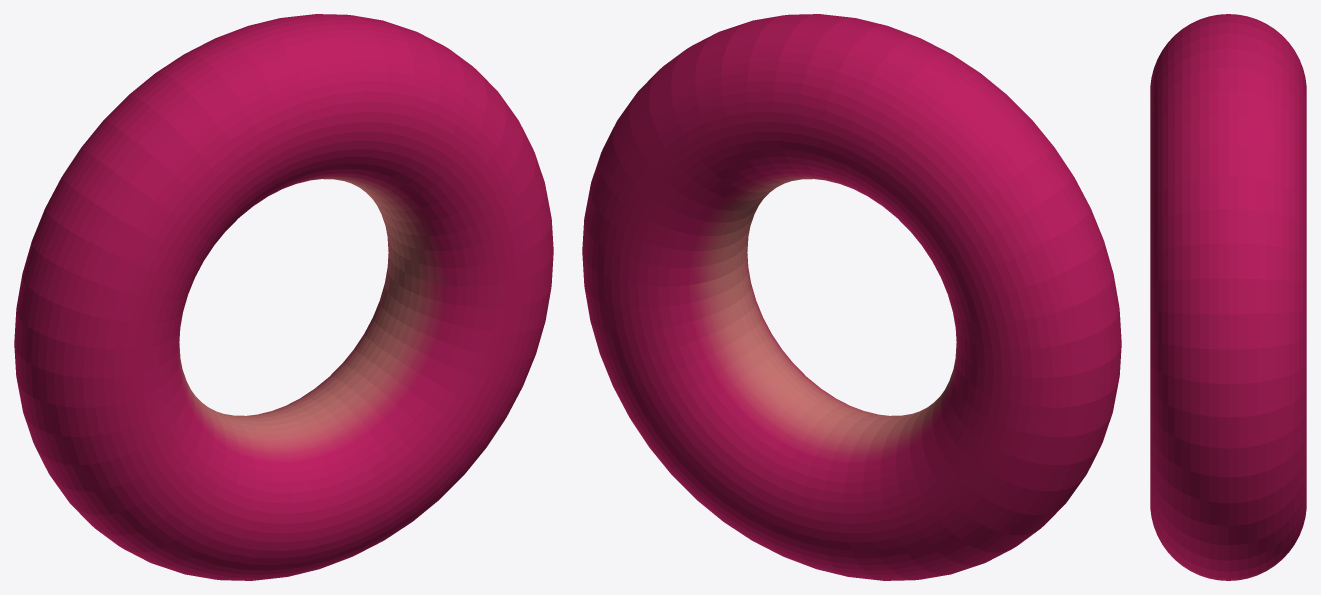
3 renders of one model, left to right at view 1: azimuth 30°, elevation 25°; view 2: azimuth 150°, elevation 25°; view 3: azimuth 270°, elevation 25°, orthographic. The views are drawn at different scales.
Visible parts, largest first — view 1: world; view 2: world; view 3: world.
Boxes of the visible parts, x1=… form: world: x1=14, y1=14, x2=553, y2=580; world: x1=582, y1=14, x2=1121, y2=580; world: x1=1150, y1=14, x2=1306, y2=580.
Bounding box in the file's own units: 31.33 × 31.27 × 8.65.
